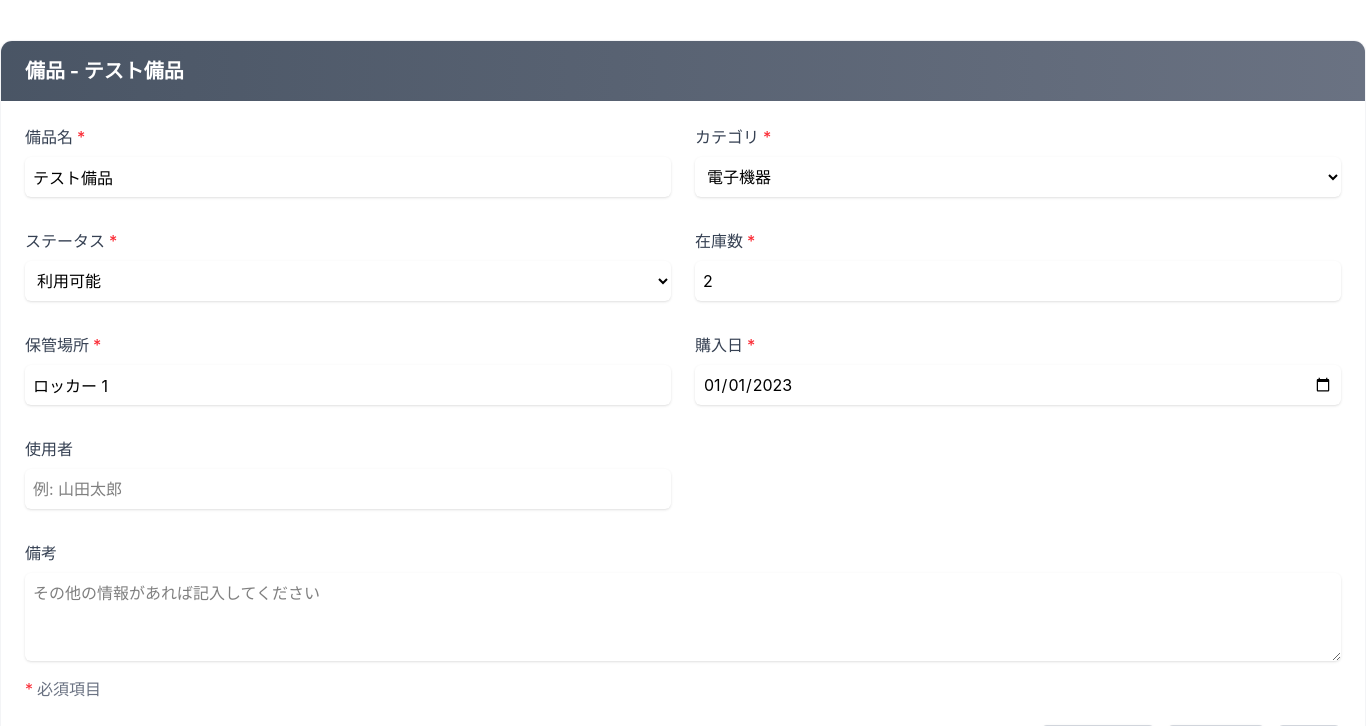
Scenario: EditEquipmentForm コンポーネント › フォームバリデーション › 必須フィールドのバリデーション › 備品名が空の場合にエラーメッセージが表示される
The width and height of the screenshot is (1366, 726).
Clear the field labelled "備品名*". click: {"x": 348, "y": 177}
box: 25,157 -> 671,197
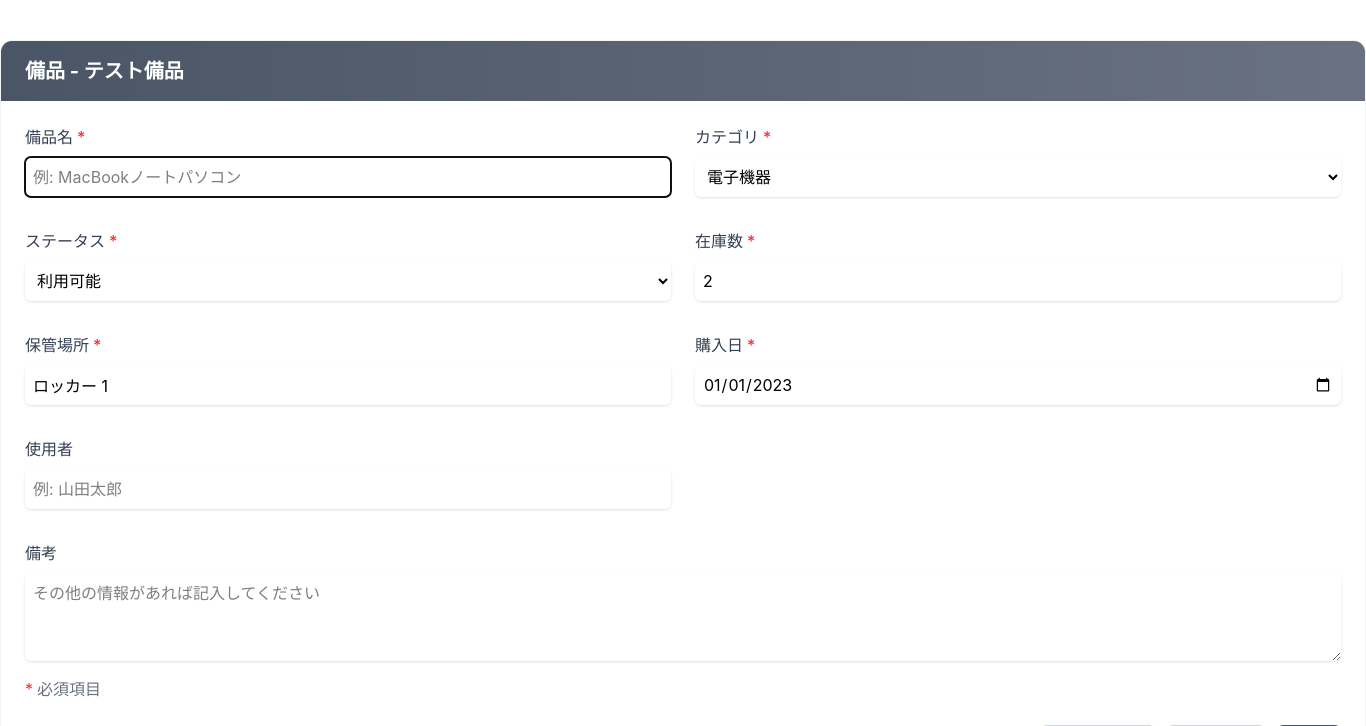
Press Tab
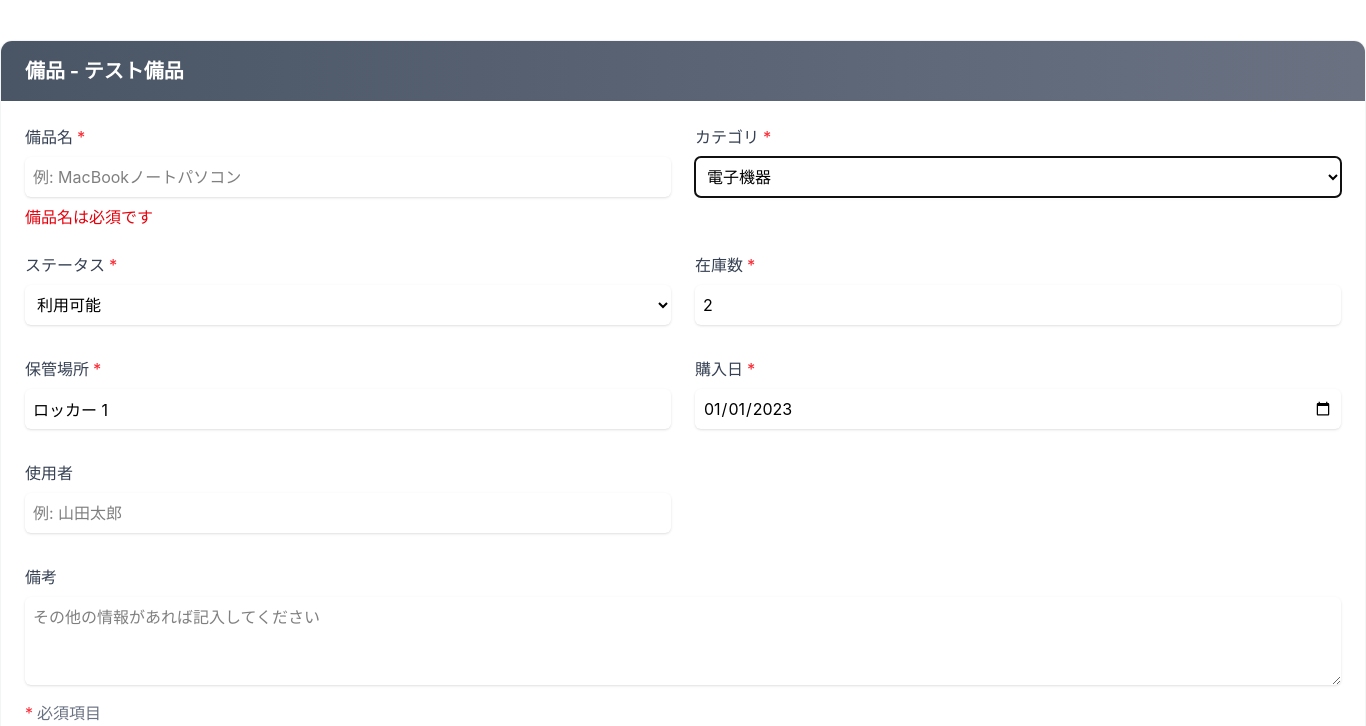
Result: the text "備品名は必須です" is shown at 25,207 -> 153,227
